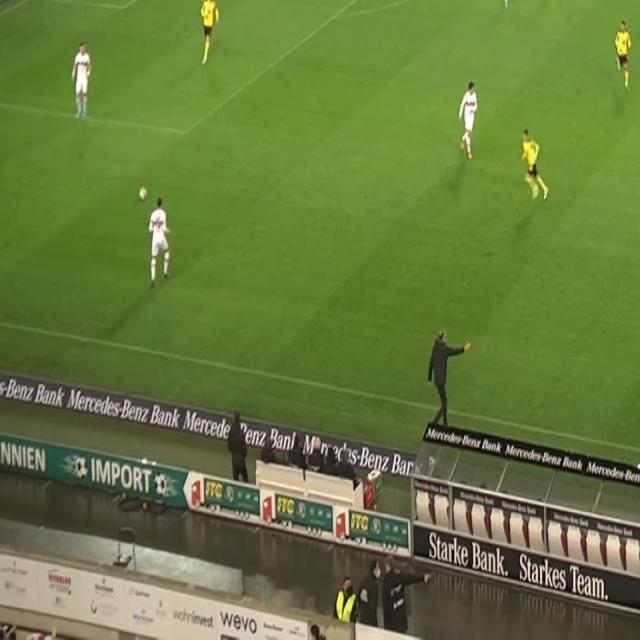ball: (138, 185, 148, 202)
